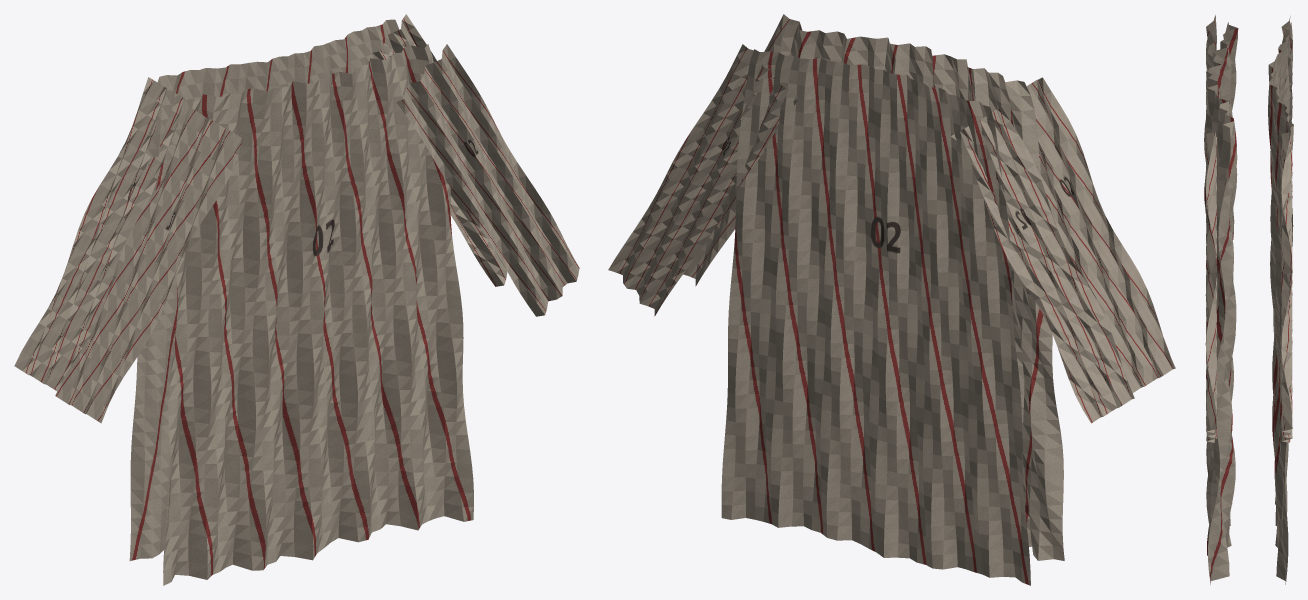
File: 08-stone-graphics.glb
The picture shows the model from 3 angles, left to right: view 1: azimuth 30°, elevation 25°; view 2: azimuth 150°, elevation 25°; view 3: azimuth 270°, elevation 25°; orthographic projection. The views are drawn at different scales.
Parts seen in each view (by area): view 1: 08-stone-graphics; view 2: 08-stone-graphics; view 3: 08-stone-graphics.
Part boxes in pixels (bbox=[...]): 08-stone-graphics: bbox=[14, 14, 579, 585]; 08-stone-graphics: bbox=[608, 14, 1175, 585]; 08-stone-graphics: bbox=[1204, 15, 1293, 584].
Bounding box in the file's own units: 1.99 × 1.74 × 0.3188.
Materials: 1 (1 with a texture image).
